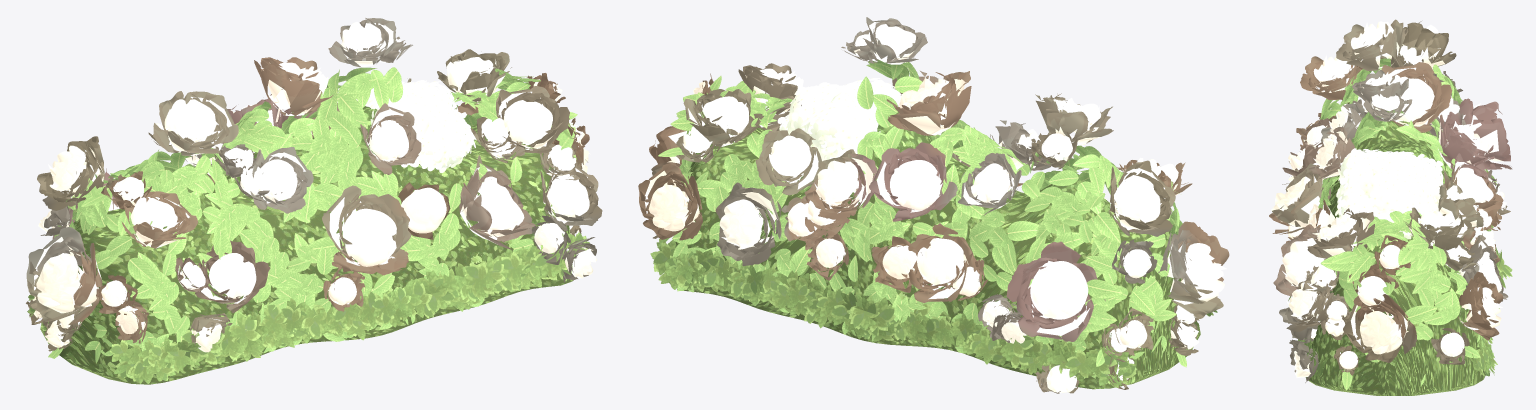
Rendered from FlowerBank_1m_sample_A_1002_v14.glb.
3 views of the same model, side by side, from view 1: azimuth 30°, elevation 25°; view 2: azimuth 150°, elevation 25°; view 3: azimuth 270°, elevation 25° (orthographic). The views are drawn at different scales.
Visible parts, largest first — view 1: FlowerBank_1m; view 2: FlowerBank_1m; view 3: FlowerBank_1m.
Boxes of the visible parts, bbox=[...] form: FlowerBank_1m: bbox=[26, 18, 602, 384]; FlowerBank_1m: bbox=[638, 17, 1229, 393]; FlowerBank_1m: bbox=[1269, 19, 1512, 395].
Bounding box in the file's own units: 1.28 × 0.5736 × 0.5706.
7 materials, 6 textured.
